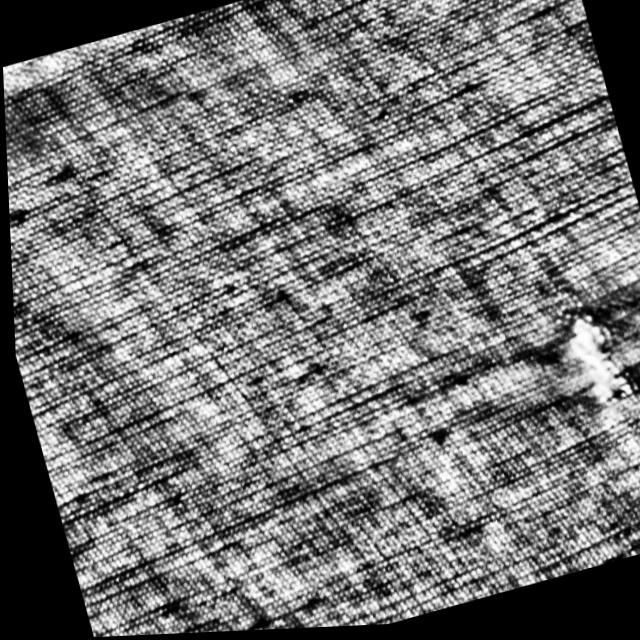Hole: (526, 288, 640, 430)
